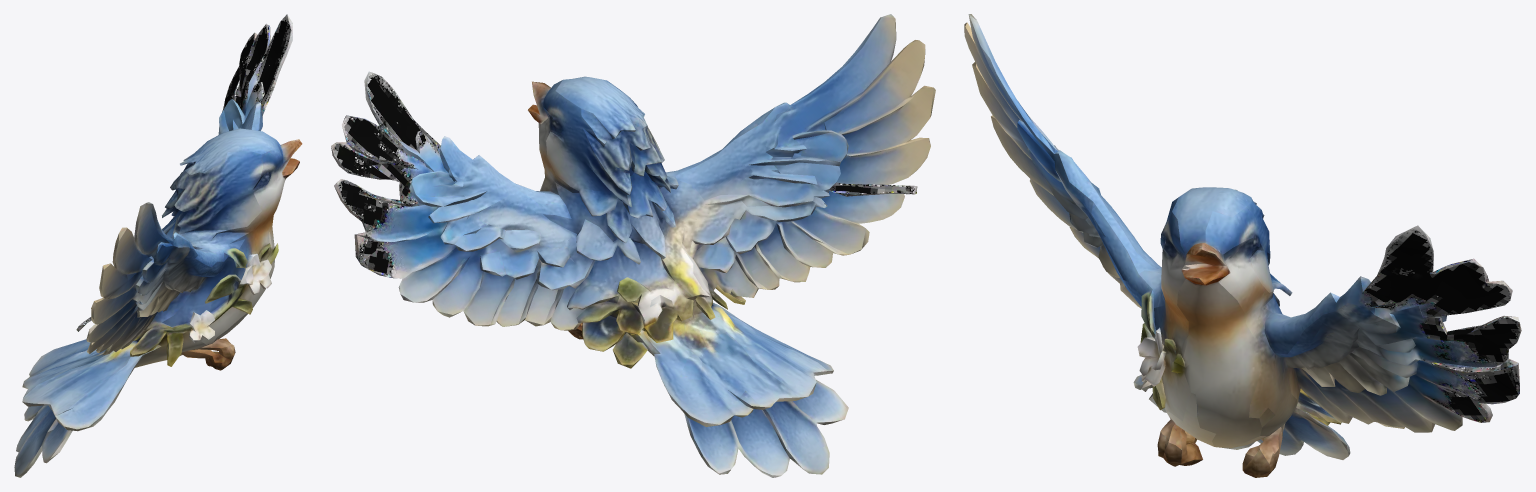
The model's file is bird.glb.
The picture shows the model from 3 angles, left to right: view 1: azimuth 30°, elevation 25°; view 2: azimuth 150°, elevation 25°; view 3: azimuth 270°, elevation 25°; orthographic projection. The views are drawn at different scales.
Visible parts, largest first — view 1: geometry_0; view 2: geometry_0; view 3: geometry_0.
Boxes of the visible parts, x1,y1,x2,y2 form: geometry_0: (14, 14, 302, 477); geometry_0: (331, 14, 935, 477); geometry_0: (964, 14, 1521, 477).
Bounding box in the file's own units: 0.1994 × 0.1811 × 0.2.
Materials: 1 (1 with a texture image).
